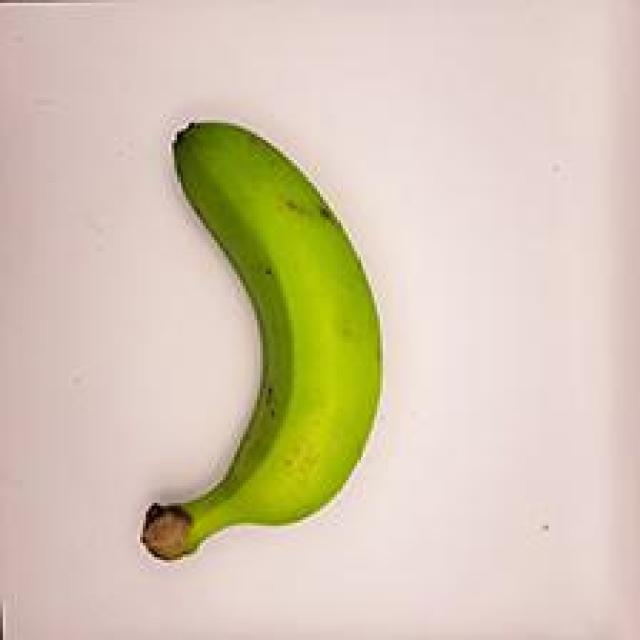Unripe: (71, 98, 436, 576)
